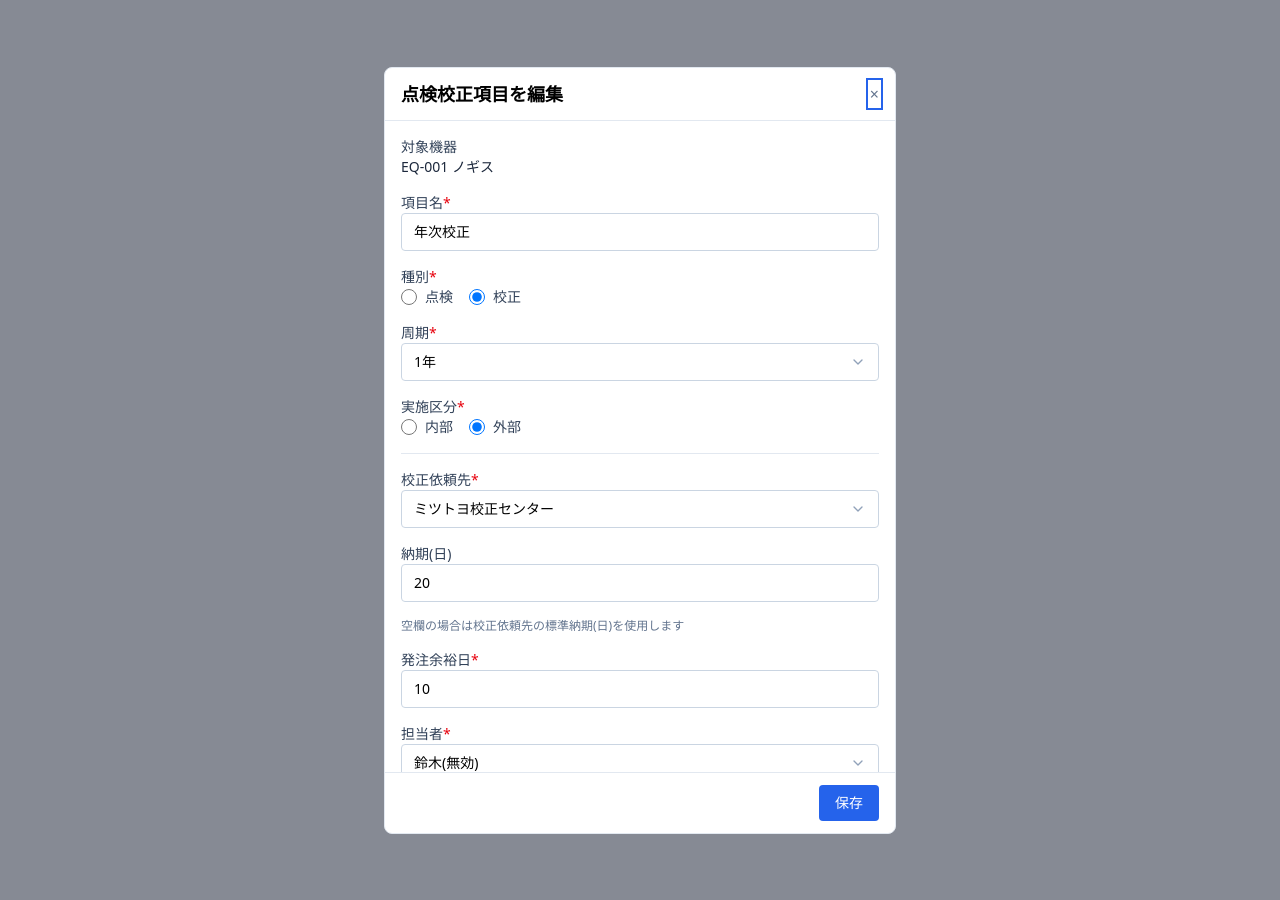
Test: ServiceItemModal: 編集 › D-012: 現担当が無効化済みの項目を編集すると「(無効)」付きで選択肢に現れ、他の無効担当者は現れない
Expected: the dropdown named "担当者" reads "鈴木(無効)", [401,744,879,772]
Click the dropdown named "担当者".
click(446, 762)  # box [401,744,879,782]
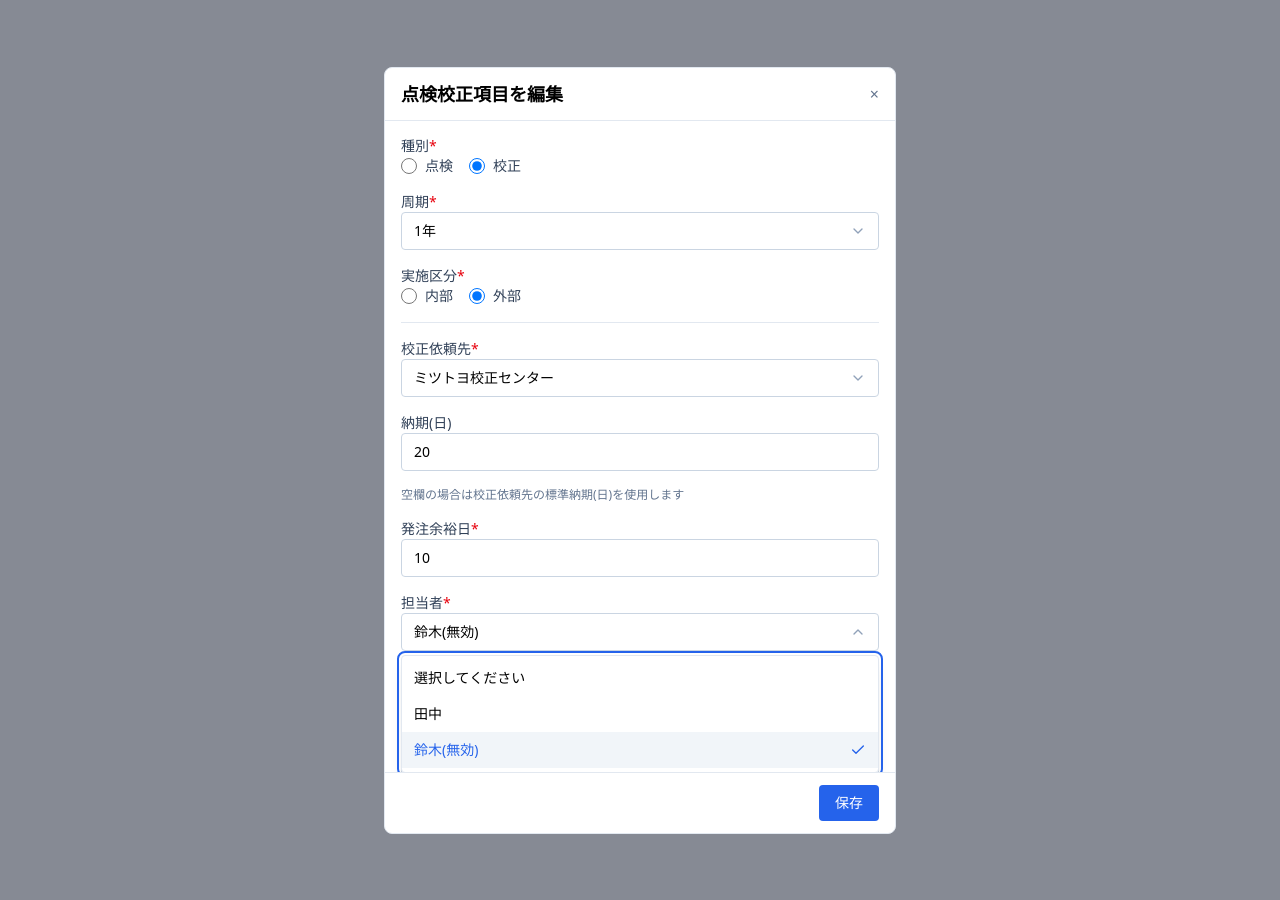
Now the option "鈴木(無効)" is shown, box [402,732,878,768]
